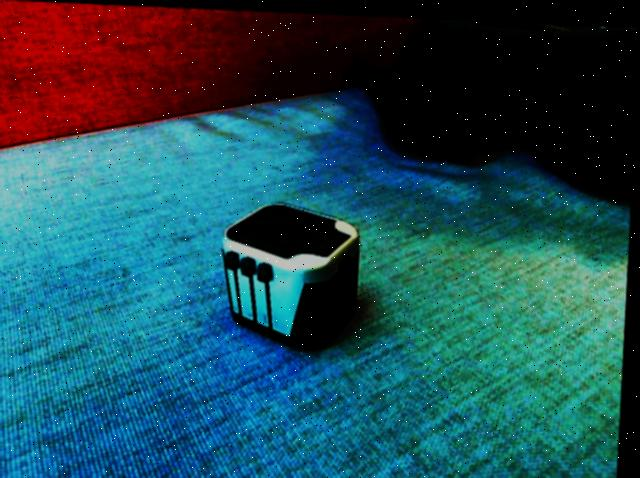adapter: (218, 198, 364, 349)
